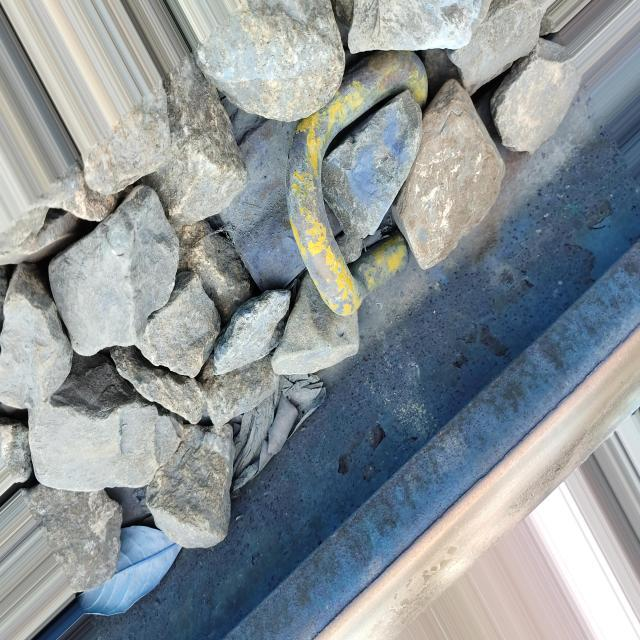Good Fasteners: (220, 51, 428, 315)
